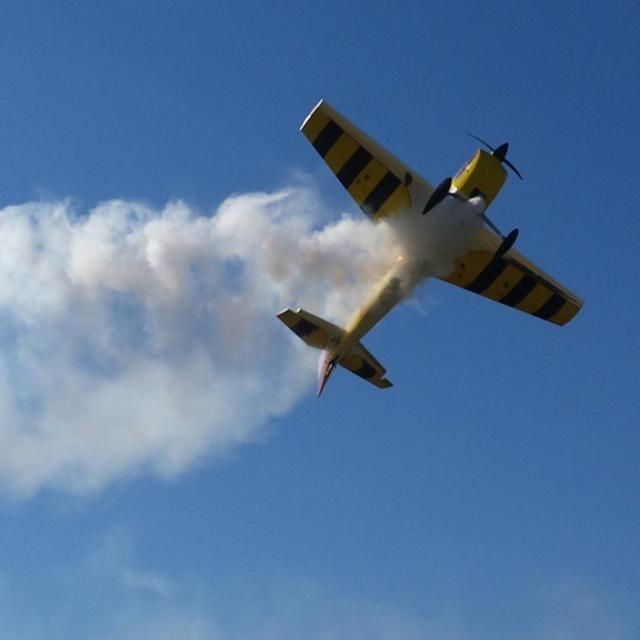iha: (274, 96, 584, 402)
